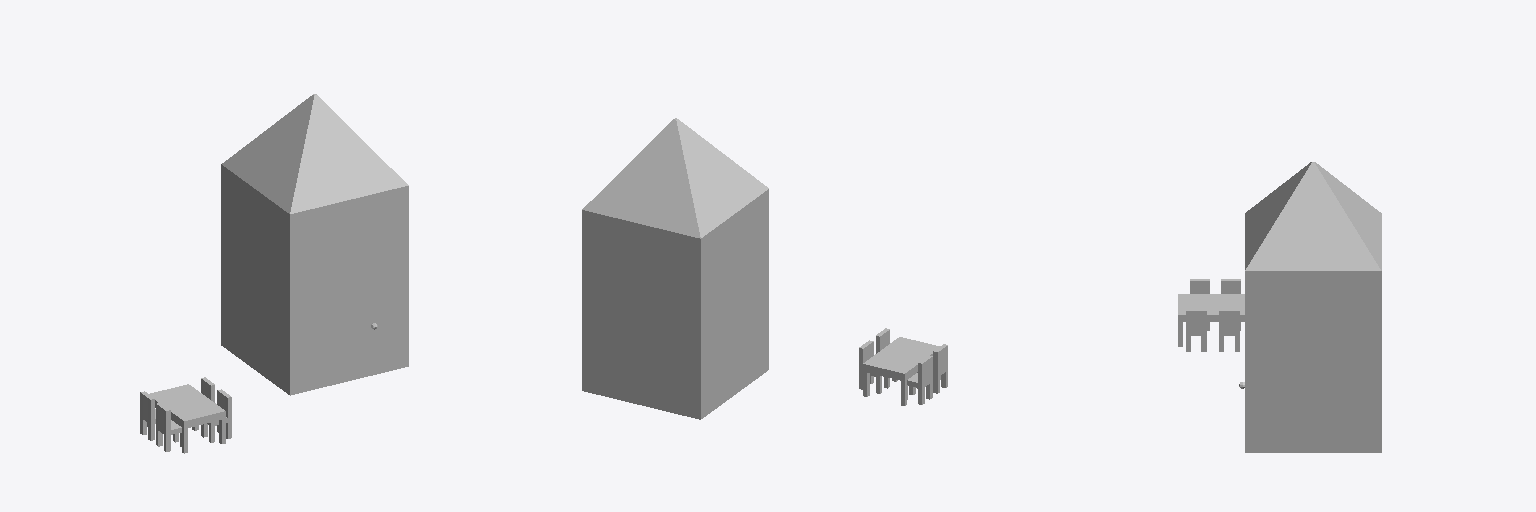
Rendered from stickfigure.obj.
3 renders of one model, left to right at view 1: azimuth 30°, elevation 25°; view 2: azimuth 150°, elevation 25°; view 3: azimuth 270°, elevation 25°, orthographic.
Parts seen in each view (by area): view 1: pCube1, pCube2, pCube9, pCube6, pCube8; view 2: pCube1, pCube2, pCube8, pCube9, pCube3; view 3: pCube1, pCube2, pCube6, pCube3.
Boxes of the visible parts, box(x1,y1,x2,y2) form: pCube1: box(221, 94, 408, 395); pCube2: box(147, 384, 225, 453); pCube9: box(156, 403, 181, 451); pCube6: box(201, 389, 231, 442); pCube8: box(140, 391, 155, 440); pCube1: box(582, 118, 768, 419); pCube2: box(863, 337, 940, 405); pCube8: box(907, 355, 932, 404); pCube9: box(917, 344, 947, 393); pCube3: box(859, 340, 889, 393); pCube1: box(1239, 162, 1381, 452); pCube2: box(1178, 294, 1244, 346); pCube6: box(1186, 308, 1206, 351); pCube3: box(1219, 308, 1239, 351).
Bounding box in the file's own units: 2.27 × 2.1 × 1.48.